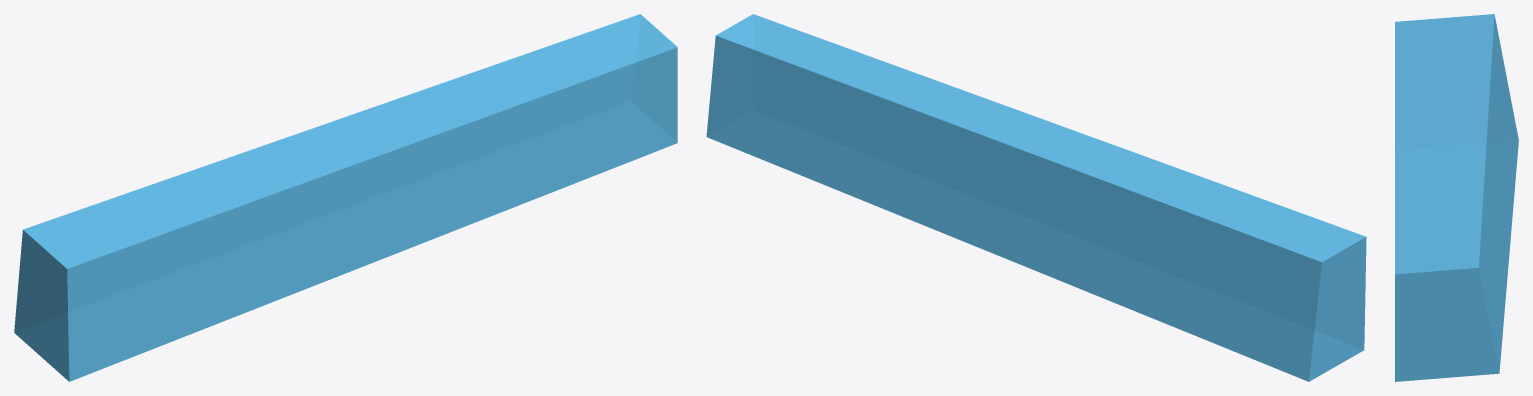
Rendered from Event_421364160_HErechit_5.fbx.
3 renders of one model, left to right at view 1: azimuth 30°, elevation 25°; view 2: azimuth 150°, elevation 25°; view 3: azimuth 270°, elevation 25°, orthographic. The views are drawn at different scales.
Visible parts, largest first — view 1: Model; view 2: Model; view 3: Model.
Boxes of the visible parts, x1,y1,x2,y2 form: Model: (14, 14, 677, 381); Model: (706, 14, 1366, 381); Model: (1395, 14, 1518, 381).
Bounding box in the file's own units: 1.9 × 0.5715 × 0.2975.
